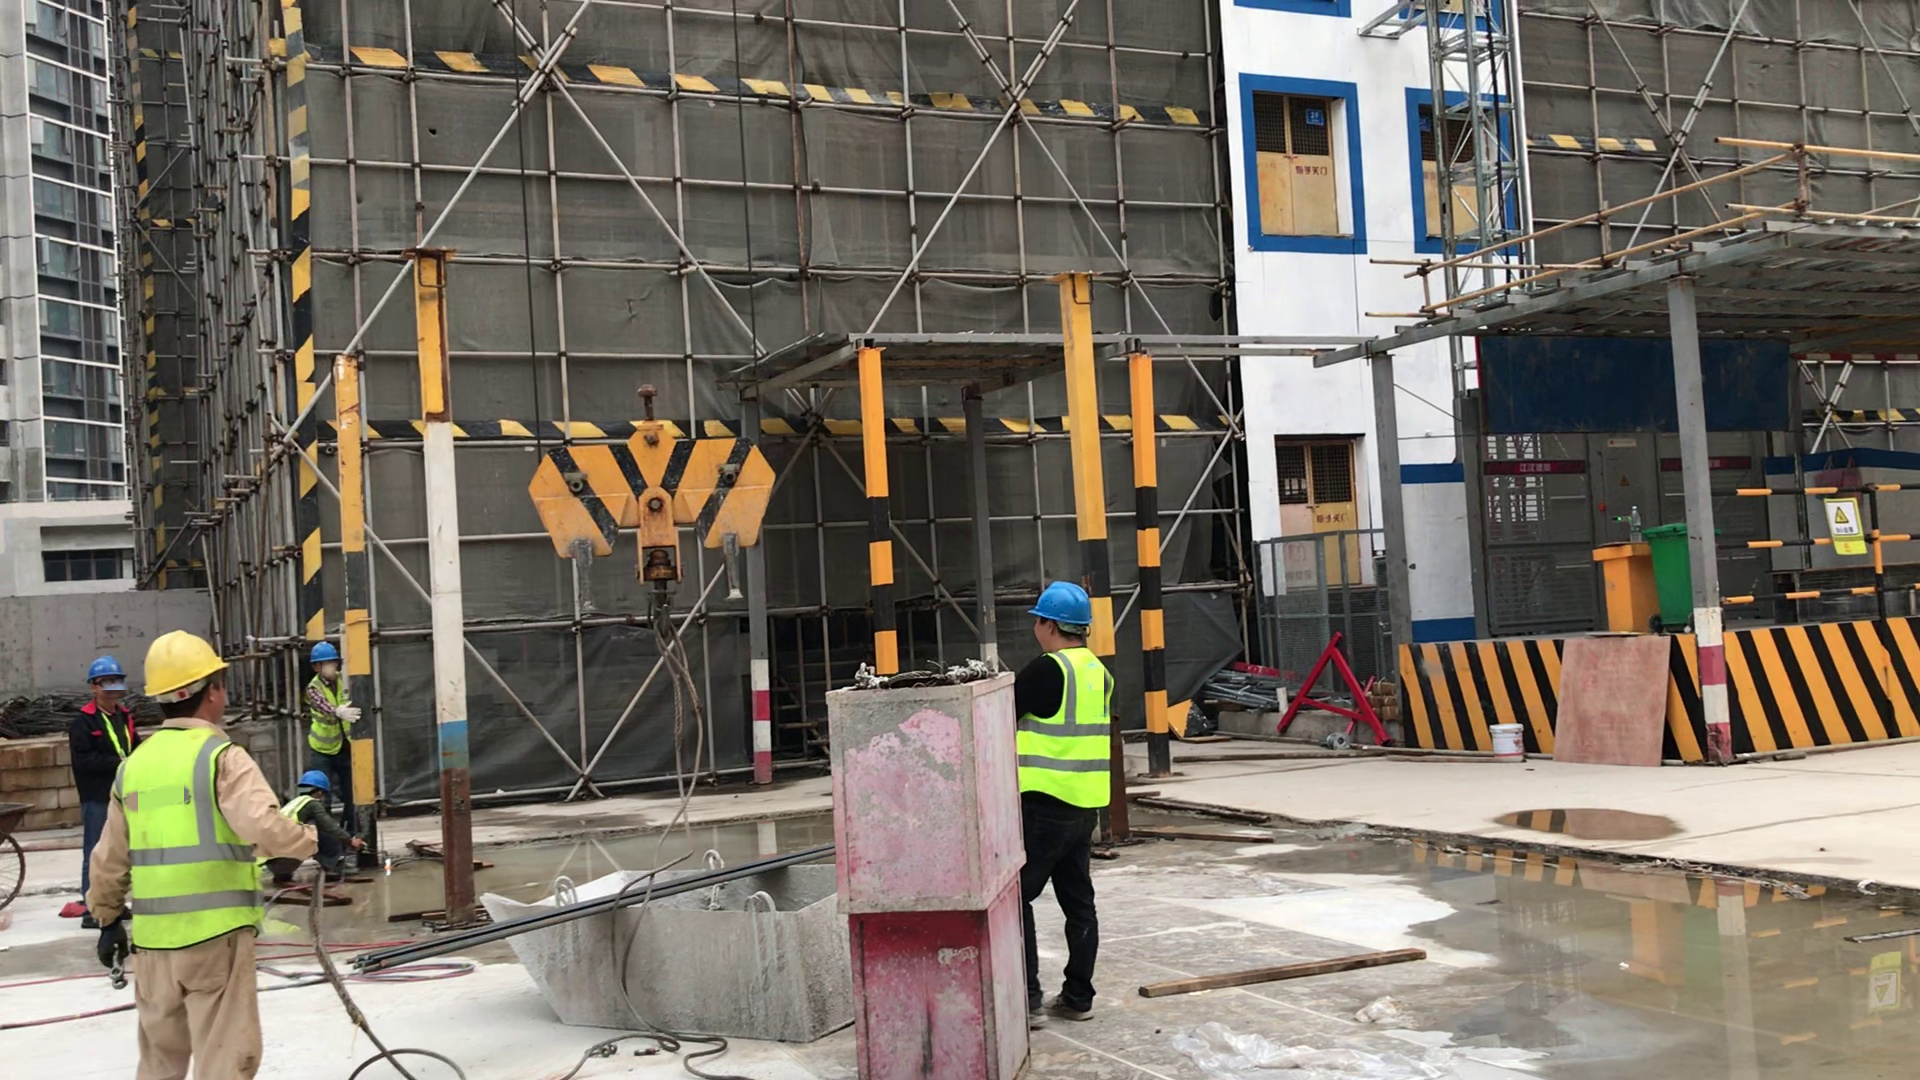helmet: (138, 618, 251, 699), (1021, 577, 1104, 630), (79, 645, 135, 691), (301, 637, 355, 676), (296, 764, 348, 797)
person: (83, 612, 336, 1077), (1006, 572, 1193, 1038), (66, 643, 138, 899), (273, 764, 371, 903), (296, 638, 378, 799)
vest: (104, 720, 265, 958), (1016, 639, 1124, 826), (301, 672, 363, 754), (83, 706, 147, 769), (277, 785, 311, 827)
